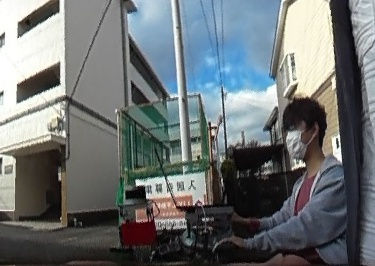person: (223, 99, 351, 266)
